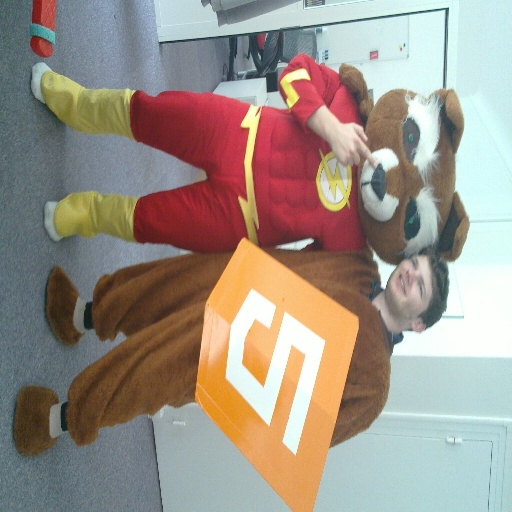hand: (331, 121, 377, 171)
